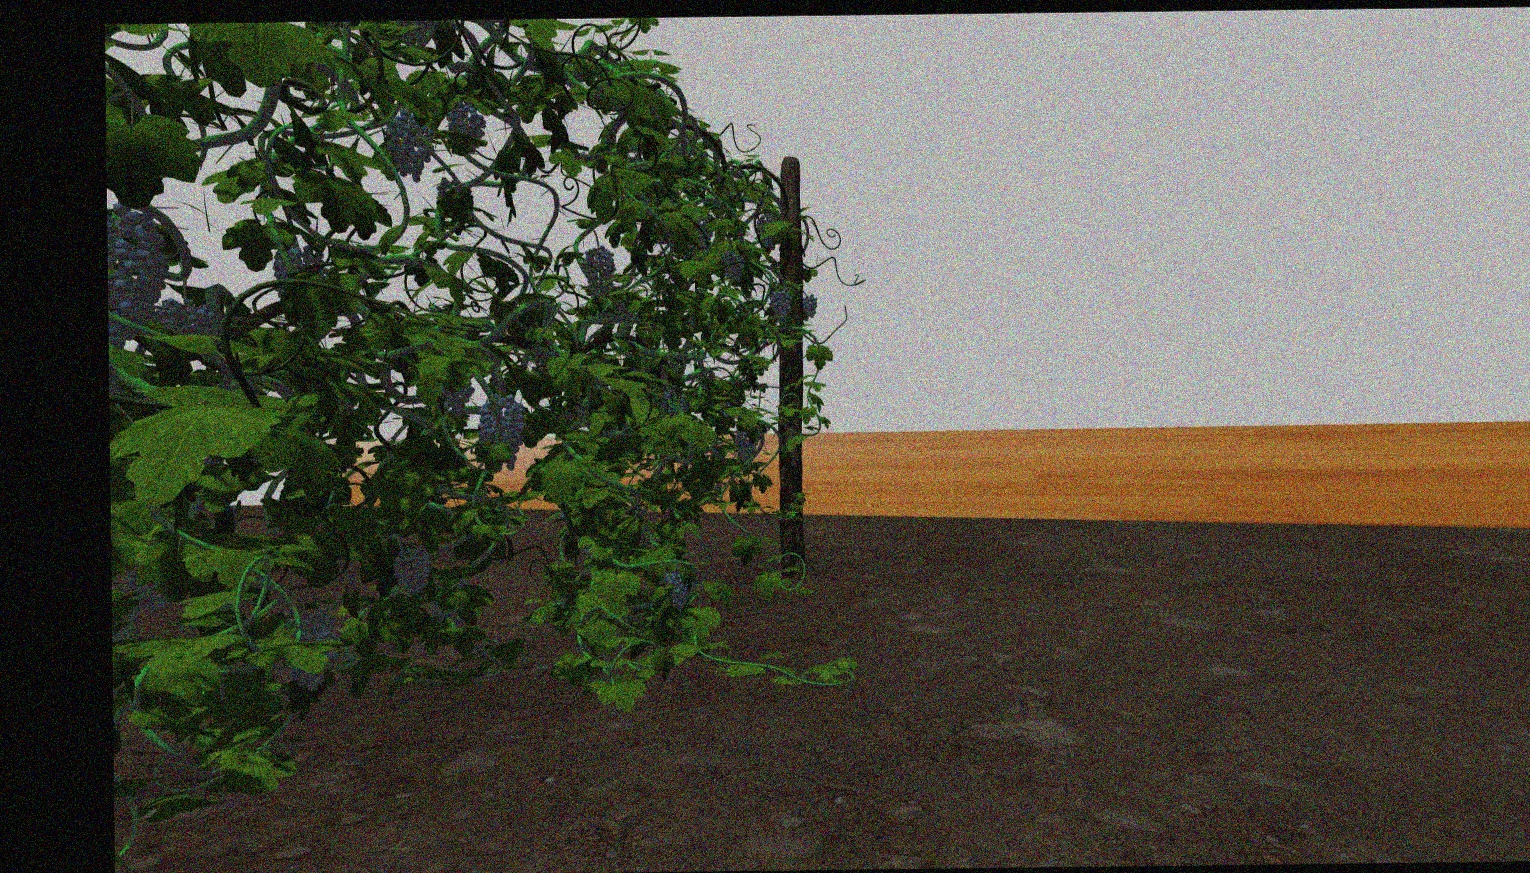grape: (110, 201, 170, 347), (280, 606, 342, 692), (475, 392, 526, 469), (382, 109, 433, 181), (156, 298, 212, 339), (392, 547, 431, 599), (444, 100, 485, 142), (584, 242, 615, 296), (661, 567, 687, 610), (768, 285, 792, 324), (754, 211, 777, 252), (733, 431, 758, 466), (720, 247, 744, 280), (801, 292, 816, 318)
